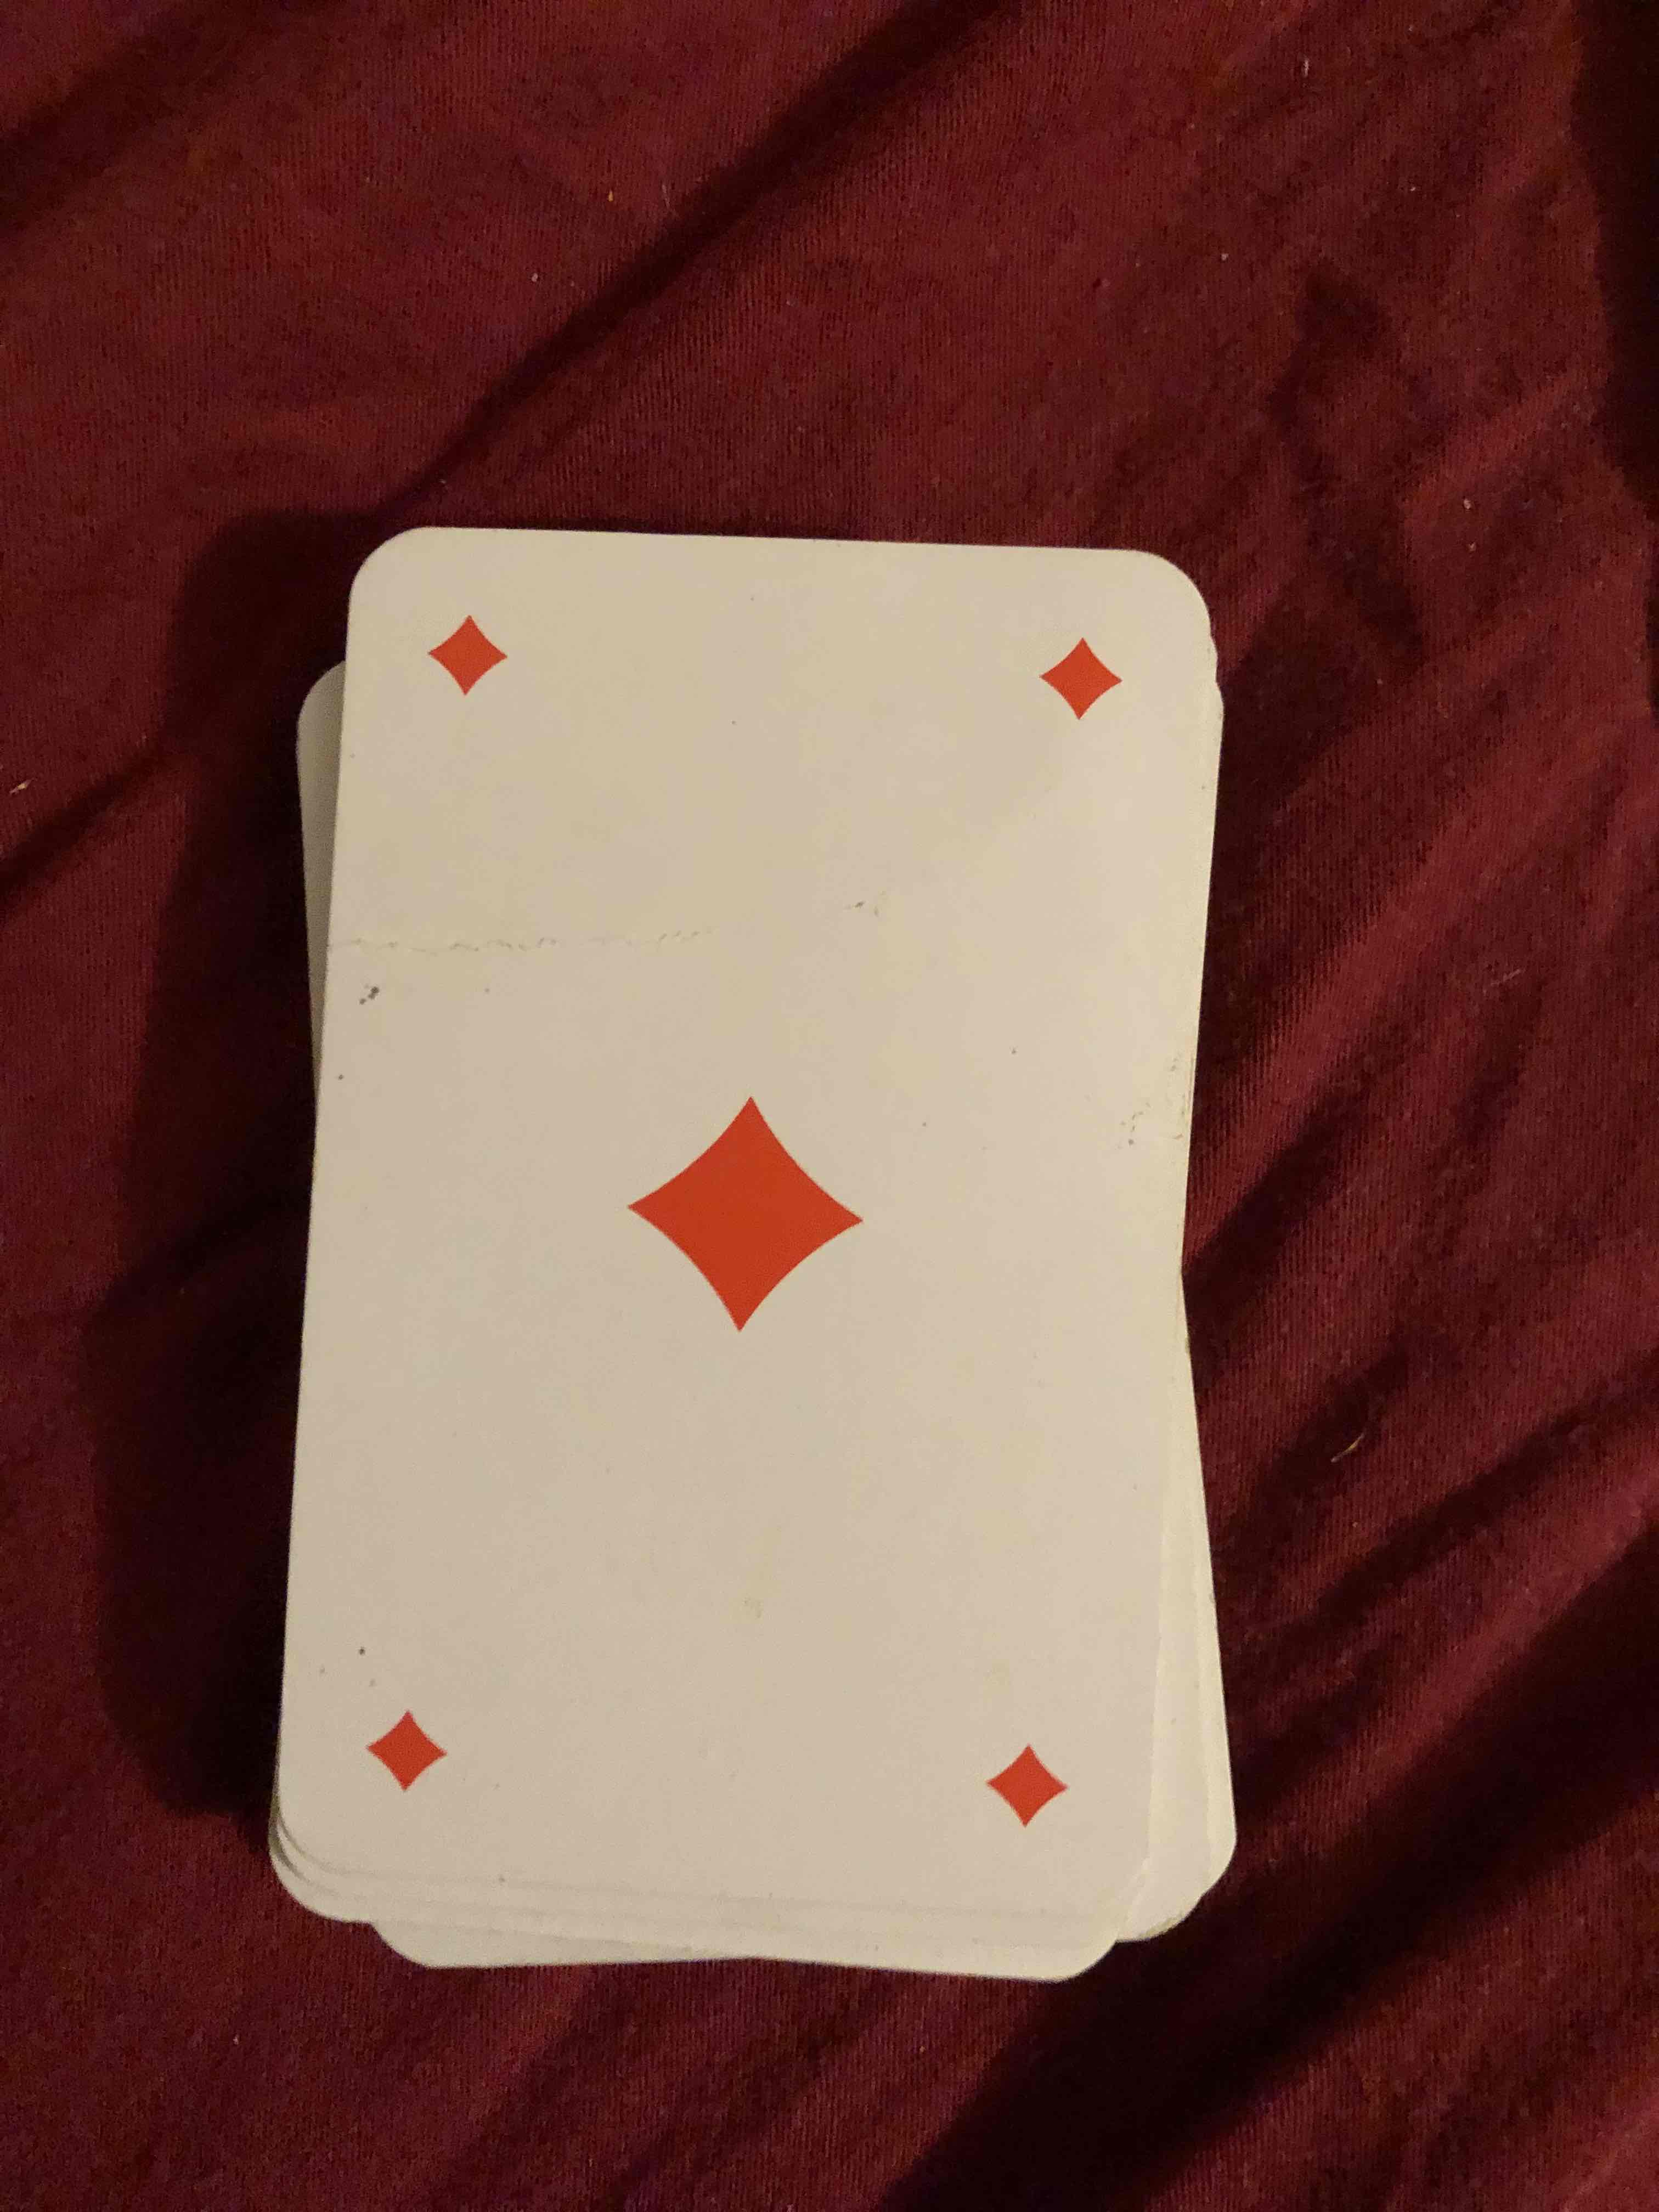diamondAce: (361, 538, 1150, 1926)
